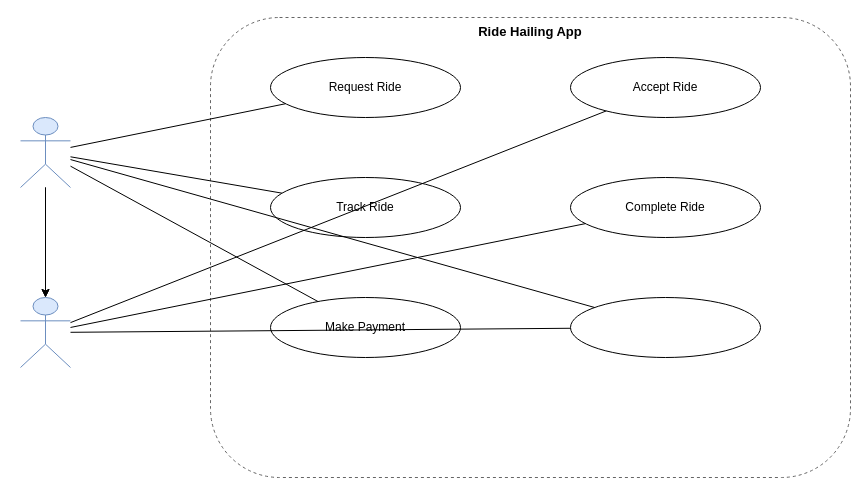
The diagram is 868 pixels wide and 495 high, and some of its shapes have lost their labels. Here are the shapes that lost their labels. From the top down, the centre of each, then its label:
At pixel 45 152: "Passenger".
At pixel 45 332: "Driver".
At pixel 665 327: "Rate Trip".
